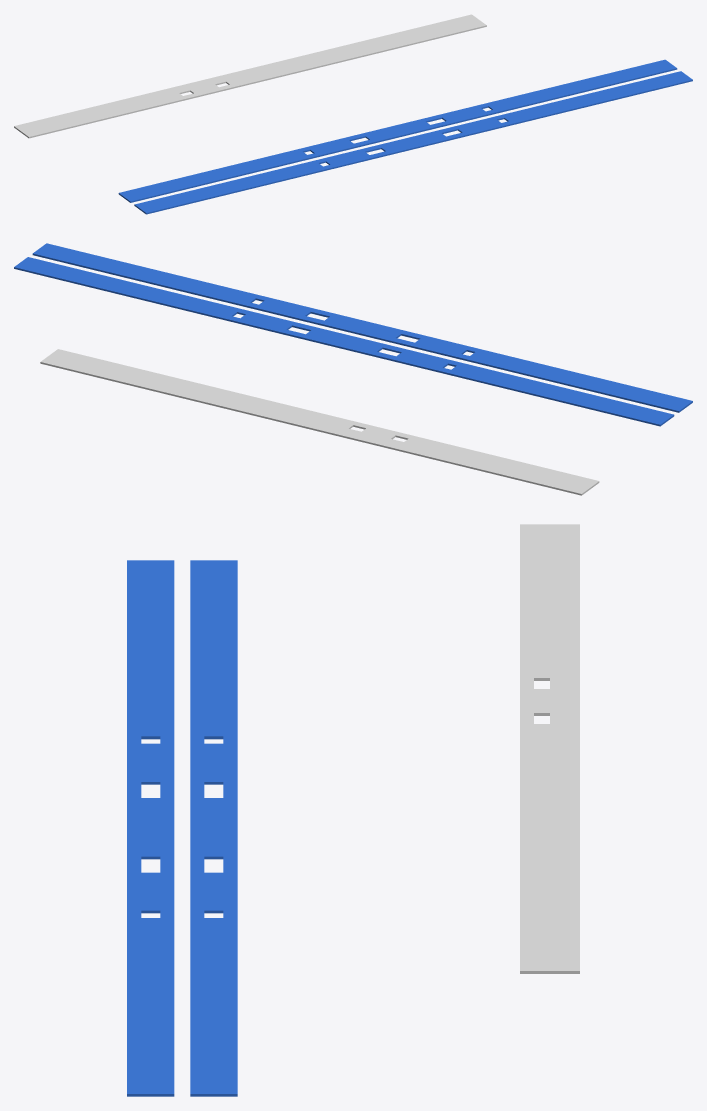
The picture shows the model from 3 angles, top to bottom: view 1: azimuth 30°, elevation 25°; view 2: azimuth 150°, elevation 25°; view 3: azimuth 270°, elevation 25°; orthographic projection. The views are drawn at different scales.
Parts seen in each view (by area): view 1: 南遊歩道, 新幹線ホーム南, 新幹線ホーム北; view 2: 南遊歩道, 新幹線ホーム北, 新幹線ホーム南; view 3: 南遊歩道, 新幹線ホーム北, 新幹線ホーム南.
Part boxes in pixels (box(x1,y1,x2,y2)): 南遊歩道: box(14, 14, 486, 138); 新幹線ホーム南: box(134, 71, 692, 214); 新幹線ホーム北: box(118, 59, 677, 202); 南遊歩道: box(40, 349, 599, 495); 新幹線ホーム北: box(14, 257, 674, 426); 新幹線ホーム南: box(32, 243, 692, 412); 南遊歩道: box(520, 524, 579, 973); 新幹線ホーム北: box(190, 560, 237, 1096); 新幹線ホーム南: box(127, 560, 174, 1096).
Bounding box in the file's own units: 41397 × 715 × 14349.
